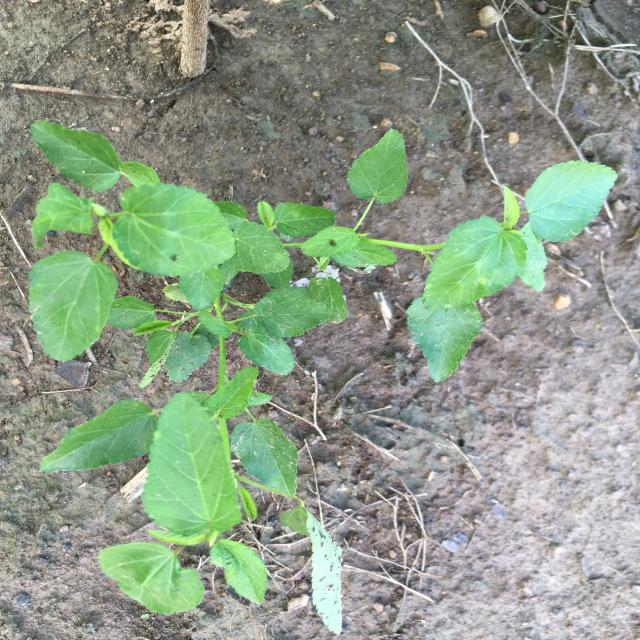PricklySida: (29, 119, 618, 636)
